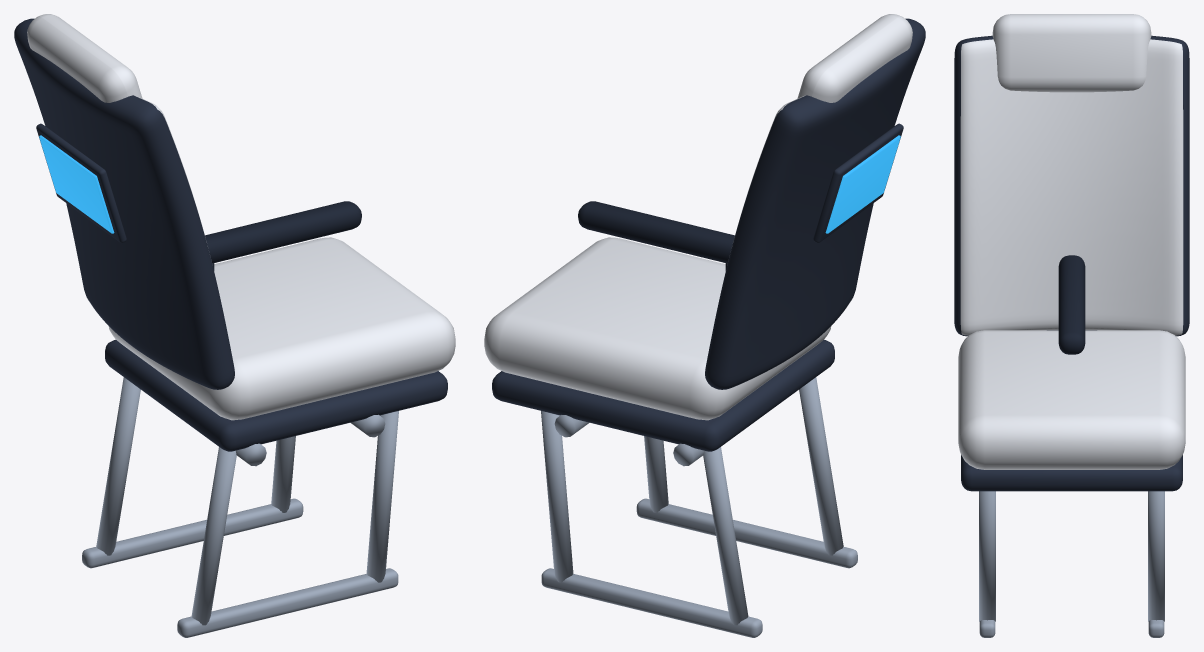
File: seat_eco.glb
3 renders of one model, left to right at view 1: azimuth 30°, elevation 25°; view 2: azimuth 150°, elevation 25°; view 3: azimuth 270°, elevation 25°, orthographic. The views are drawn at different scales.
Parts seen in each view (by area): view 1: SeatEco, Armrest; view 2: SeatEco, Armrest; view 3: SeatEco, Armrest.
Boxes of the visible parts, <box> form: SeatEco: <box>14,14,455,637</box>; Armrest: <box>205,201,361,270</box>; SeatEco: <box>484,14,925,637</box>; Armrest: <box>578,201,734,270</box>; SeatEco: <box>954,14,1189,637</box>; Armrest: <box>1058,255,1085,354</box>.
Bounding box in the file's own units: 0.665 × 1.06 × 0.4461.
